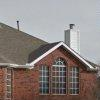Chimney: (57, 18, 88, 61)
